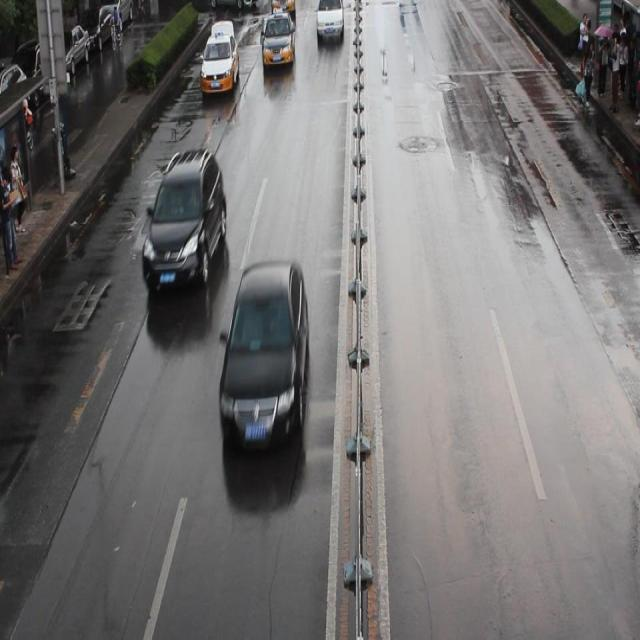car: (218, 258, 309, 450), (141, 147, 227, 292), (200, 35, 239, 94), (261, 10, 295, 68), (315, 1, 343, 40), (270, 2, 295, 15)
